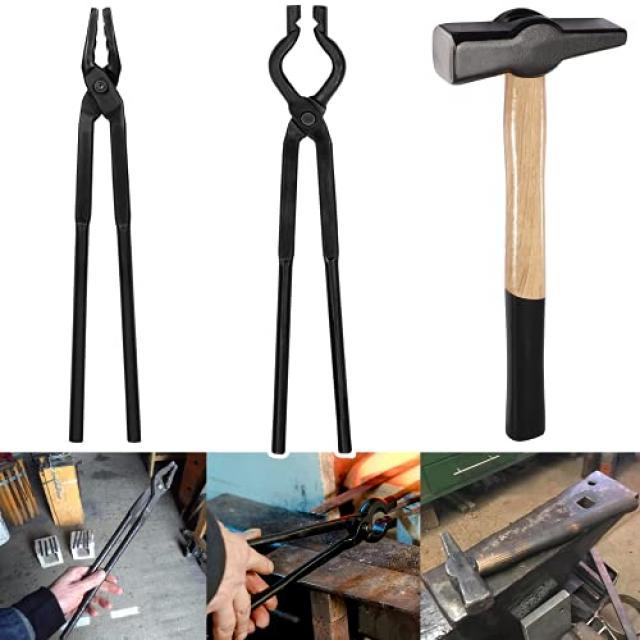hammer: (424, 0, 631, 445), (434, 476, 640, 618)
